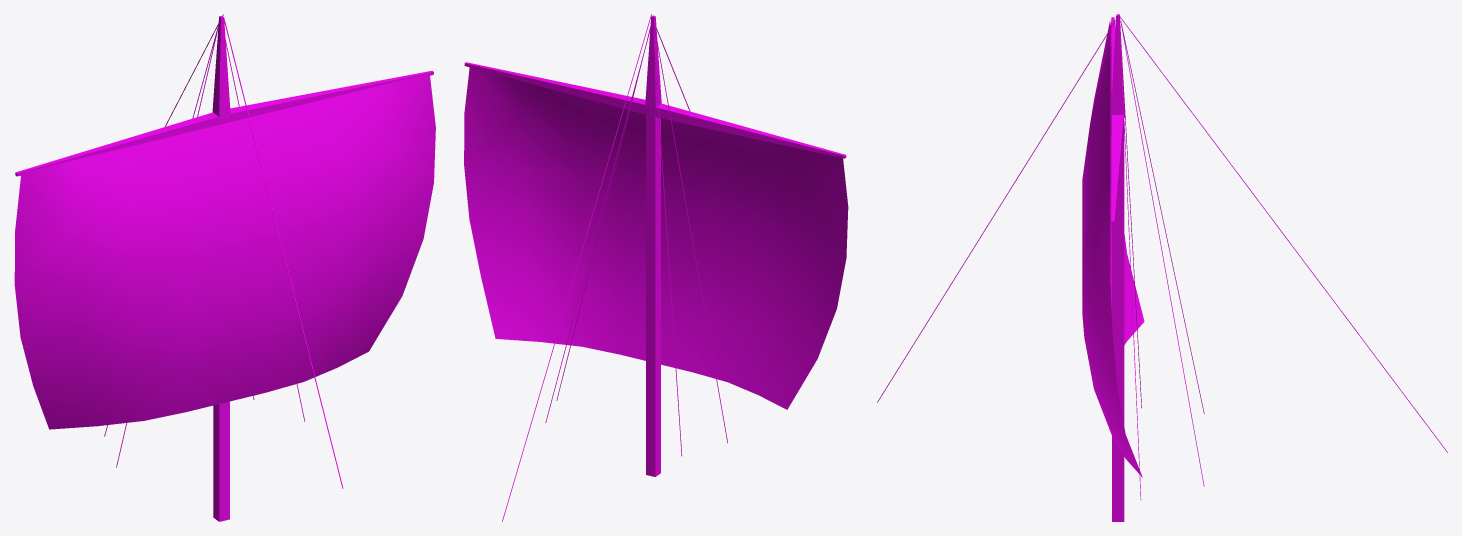
Rendered from kyrenia_sail.glb.
3 renders of one model, left to right at view 1: azimuth 30°, elevation 25°; view 2: azimuth 150°, elevation 25°; view 3: azimuth 270°, elevation 25°, orthographic. The views are drawn at different scales.
Visible parts, largest first — view 1: Plane_001Mesh-mesh; view 2: Plane_001Mesh-mesh; view 3: Plane_001Mesh-mesh.
Boxes of the visible parts, box(x1,y1,x2,y2) form: Plane_001Mesh-mesh: box(14, 14, 435, 521); Plane_001Mesh-mesh: box(464, 14, 848, 521); Plane_001Mesh-mesh: box(877, 14, 1447, 521).
Size of the model in its own units: 3.94 by 4.51 by 4.6.
